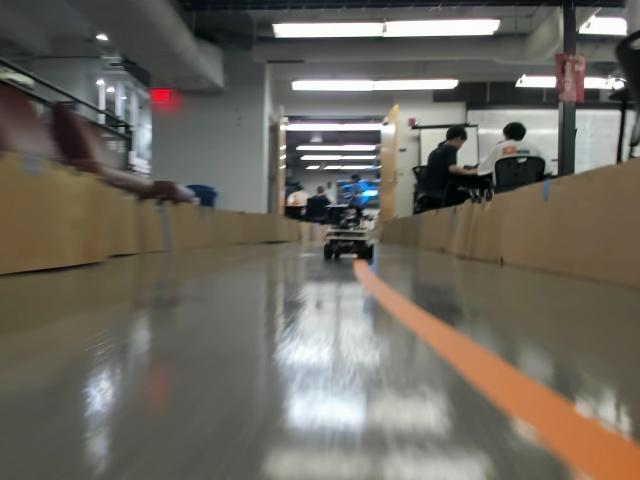Car: (322, 220, 373, 258)
